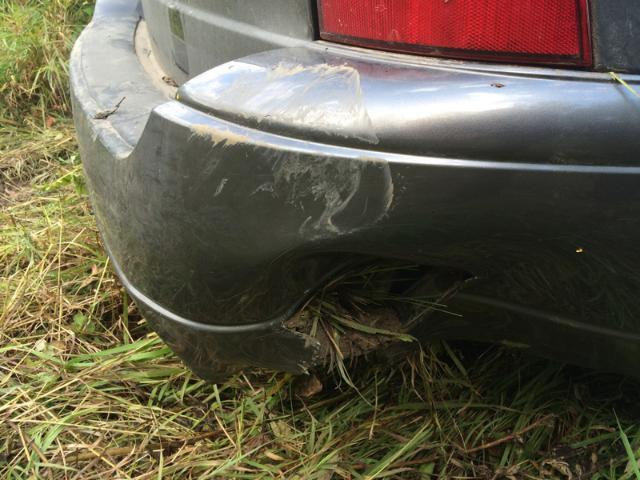Bumper: (143, 47, 459, 271)
